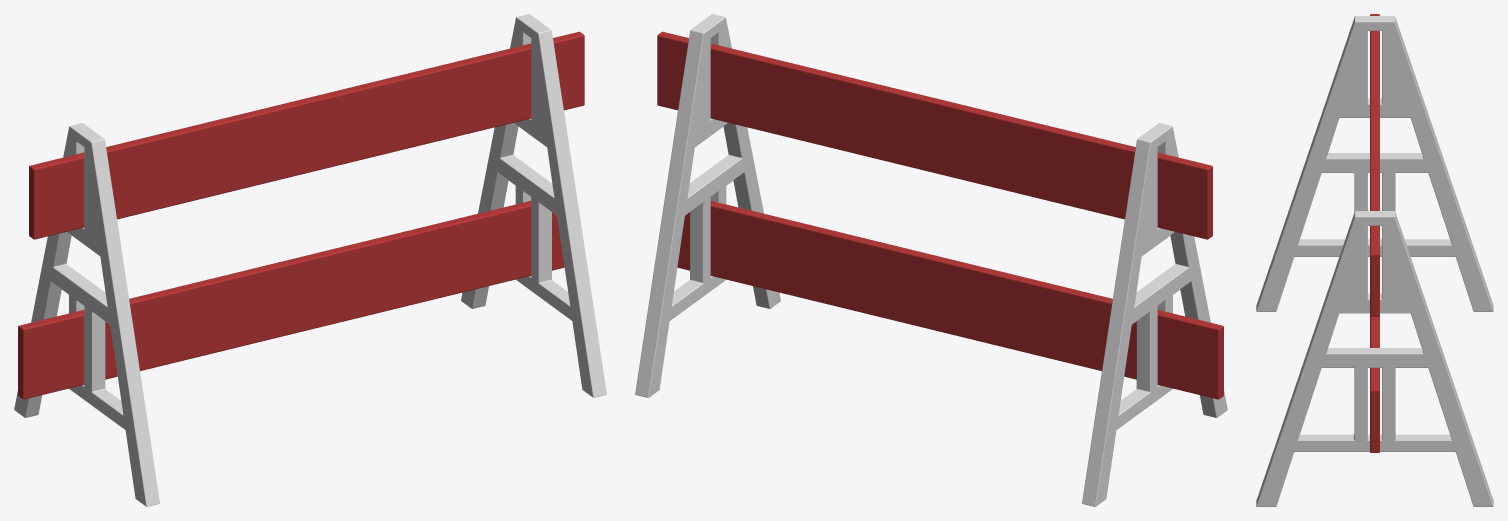
Rendered from Barrier_02.glb.
3 views of the same model, side by side, from view 1: azimuth 30°, elevation 25°; view 2: azimuth 150°, elevation 25°; view 3: azimuth 270°, elevation 25° (orthographic). The views are drawn at different scales.
Parts seen in each view (by area): view 1: SM_Barrier_02; view 2: SM_Barrier_02; view 3: SM_Barrier_02.
Part boxes in pixels (x1,y1,x2,y2): SM_Barrier_02: [14, 14, 606, 506]; SM_Barrier_02: [635, 14, 1227, 506]; SM_Barrier_02: [1256, 14, 1493, 506].
Size of the model in its own units: 1.4 by 0.7727 by 0.5724.
